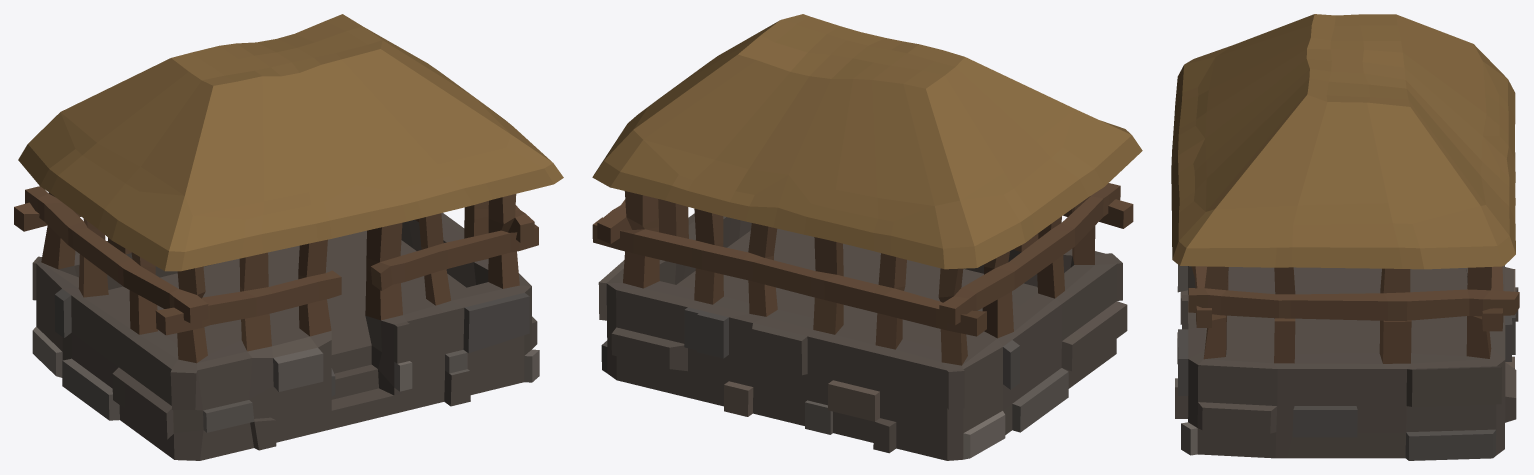
The model's file is NativeHouse1.fbx.
3 views of the same model, side by side, from view 1: azimuth 30°, elevation 25°; view 2: azimuth 150°, elevation 25°; view 3: azimuth 270°, elevation 25° (orthographic).
Parts seen in each view (by area): view 1: NativeHouse1.001; view 2: NativeHouse1.001; view 3: NativeHouse1.001.
Part boxes in pixels (bbox=[...]): NativeHouse1.001: bbox=[14, 14, 563, 460]; NativeHouse1.001: bbox=[592, 14, 1142, 460]; NativeHouse1.001: bbox=[1171, 14, 1519, 460].
Bounding box in the file's own units: 238 × 173 × 175.
